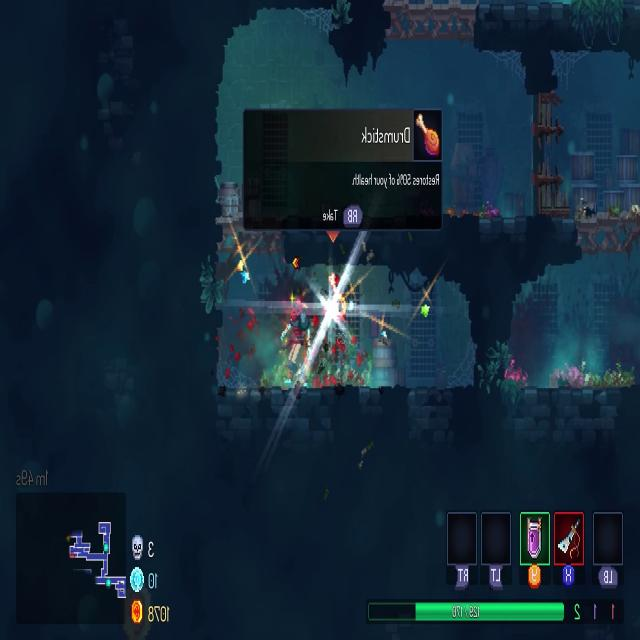agents: (280, 300, 340, 388)
wood_floor: (382, 2, 476, 44), (573, 205, 638, 256)
